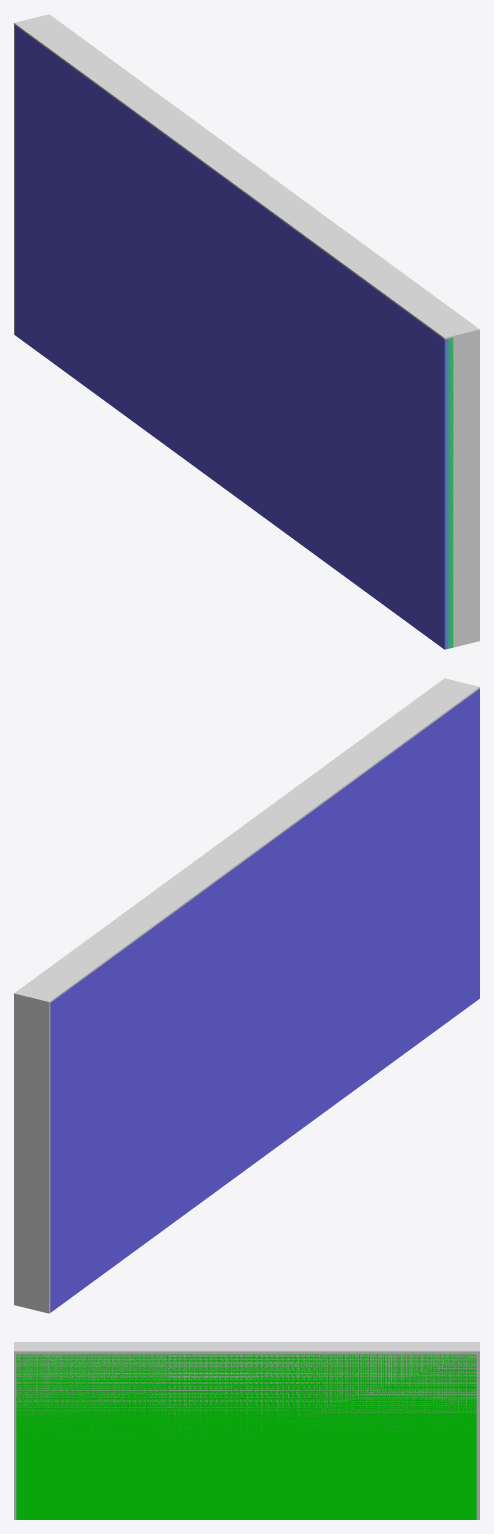
File: SM_Fence_3.fbx
The picture shows the model from 3 angles, top to bottom: view 1: azimuth 30°, elevation 25°; view 2: azimuth 150°, elevation 25°; view 3: azimuth 270°, elevation 25°; orthographic projection. The views are drawn at different scales.
Visible parts, largest first — view 1: Fence, CB_Fence_1; view 2: Fence, CB_Fence_1; view 3: Fence, CB_Fence_1.
Part boxes in pixels (x1,y1,x2,y2): Fence: (15,25,453,649); CB_Fence_1: (14,14,479,647); Fence: (50,689,479,1312); CB_Fence_1: (14,678,479,1313); Fence: (16,1354,476,1519); CB_Fence_1: (14,1342,479,1519).
Size of the model in its own units: 0.2377 by 2 by 5.01.
